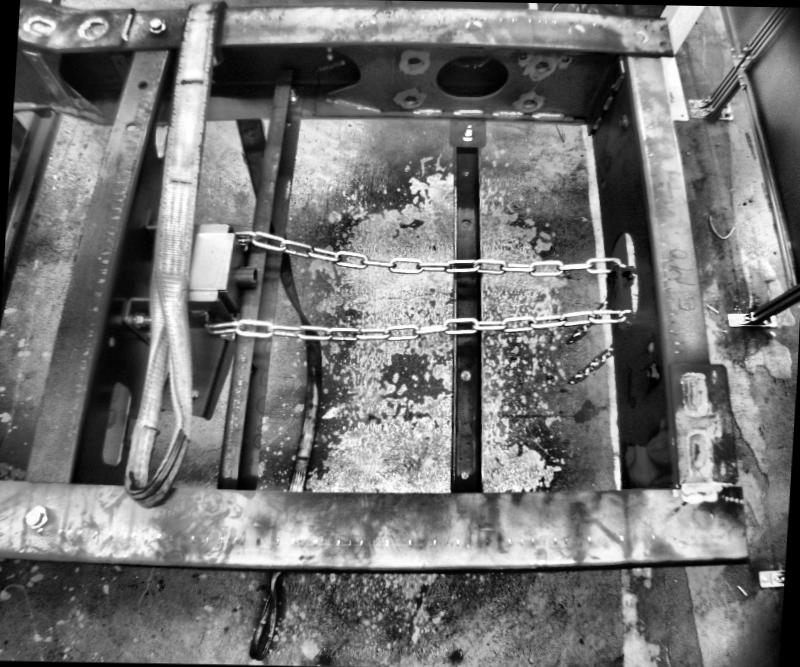bolt: (147, 17, 168, 38), (28, 506, 50, 526), (642, 362, 661, 381), (134, 314, 158, 329), (282, 86, 301, 100), (462, 123, 473, 143), (619, 114, 628, 128)
bracket: (600, 262, 626, 308)
hole: (432, 51, 511, 98), (102, 377, 134, 470), (404, 54, 424, 68), (404, 94, 420, 108), (532, 59, 548, 71), (460, 370, 472, 382), (522, 98, 536, 108), (460, 471, 471, 482), (460, 216, 470, 228), (107, 336, 117, 348), (124, 121, 135, 131), (644, 341, 654, 352), (138, 78, 148, 88), (462, 167, 470, 175)
welding: (586, 118, 601, 132), (610, 75, 622, 92), (598, 102, 612, 113)
